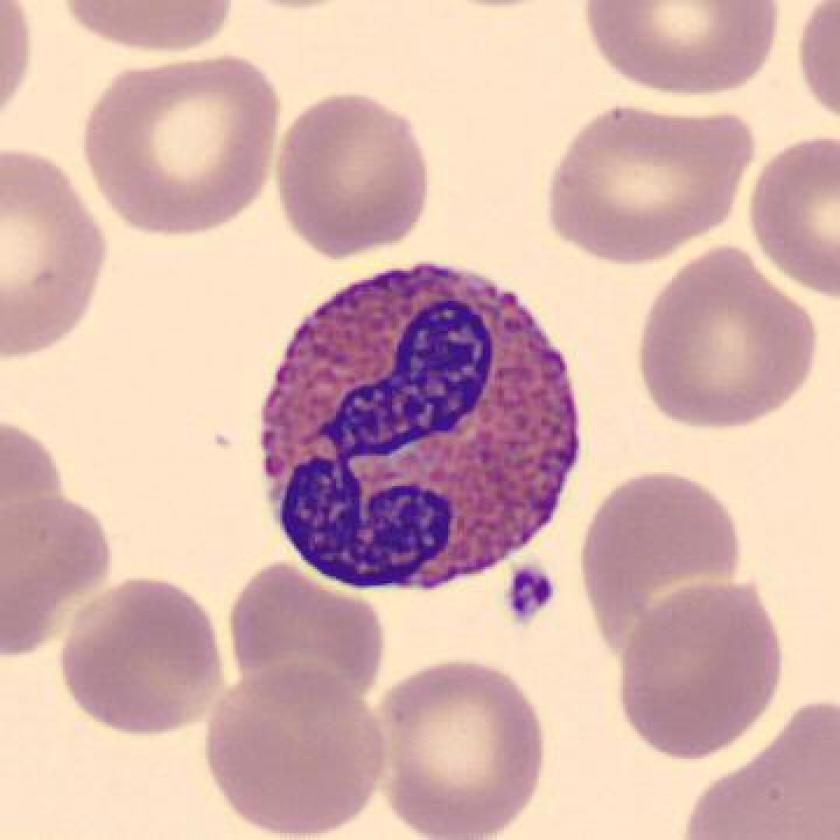eosinophil: (244, 251, 587, 603)
